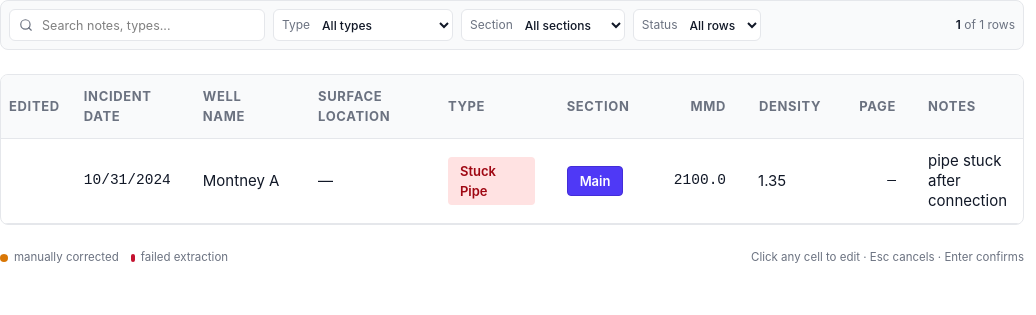
Test: OccurrenceTable › clicking x on filter chip clears that filter
The width and height of the screenshot is (1036, 315).
Select "Stuck Pipe" in the dropdown named "Filter by type" at point(385, 25), box [318, 12, 452, 38]
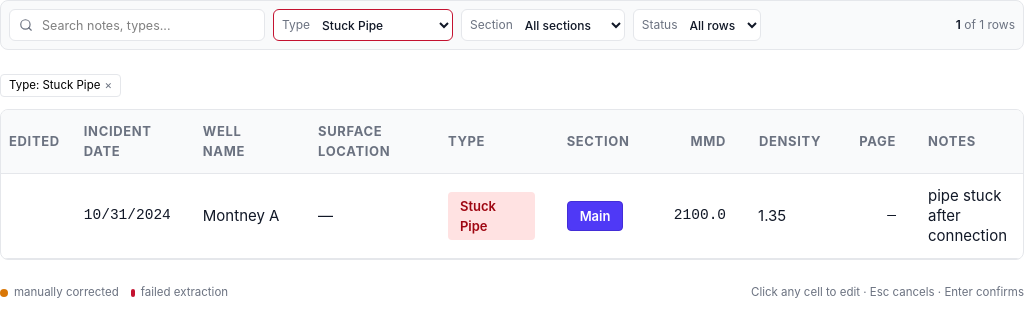
Click the button named "Remove" at point(108, 86), box [104, 80, 112, 91]
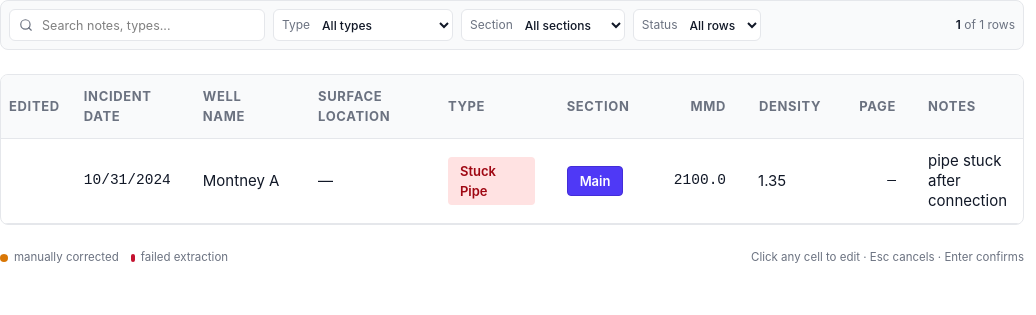
Expected: the text "Type: Stuck Pipe" is gone
